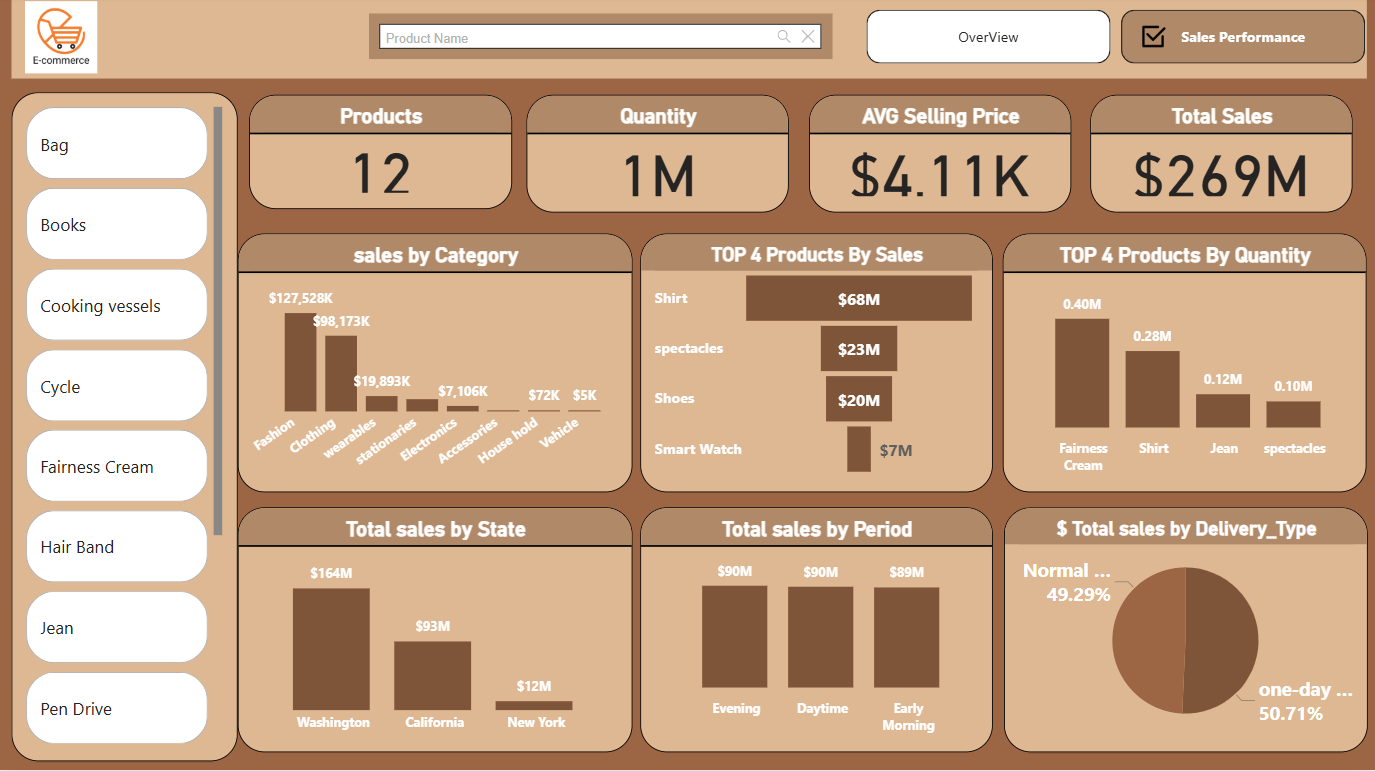

What the dashboard file says about the page in this screenshot:
{"tool":"powerbi","page":{"name":"Sales Performance","canvas":[1280,720],"ordinal":1},"visuals":[{"type":"columnChart","title":"sales by Category","fields":{"Y":["Us-Ecommerce Dataset.$ Total sales"],"Category":["Us-Ecommerce Dataset.Category"]},"box":[222.1,220.9,367.4,240.7],"z":0},{"type":"columnChart","title":"Total sales by State","fields":{"Y":["Us-Ecommerce Dataset.$ Total sales"],"Category":["Us-Ecommerce Dataset.State"]},"box":[222.1,475.6,367.4,227.9],"z":1000},{"type":"columnChart","title":"Total sales by Period","fields":{"Y":["Us-Ecommerce Dataset.$ Total sales"],"Category":["Us-Ecommerce Dataset.Period"]},"box":[596.5,475.6,327.9,227.9],"z":2000},{"type":"funnel","title":"TOP 4 Products By Sales ","fields":{"Y":["Us-Ecommerce Dataset.$ Total sales"],"Category":["Us-Ecommerce Dataset.Product"]},"box":[596.5,220.9,327.9,240.7],"z":3000},{"type":"pieChart","fields":{"Y":["Us-Ecommerce Dataset.$ Total sales"],"Category":["Us-Ecommerce Dataset.Delivery_Type"]},"box":[934.9,475.6,338.4,227.9],"z":4000},{"type":"card","title":"Total Sales","fields":{"Values":["Us-Ecommerce Dataset.$ Total sales"]},"box":[1015.1,91.9,244.2,109.3],"z":5000},{"type":"card","title":"AVG Selling Price ","fields":{"Values":["Us-Ecommerce Dataset.$ AVG Salling price"]},"box":[753.5,91.9,244.2,109.3],"z":6000},{"type":"card","title":"Products","fields":{"Values":["Us-Ecommerce Dataset.# products"]},"box":[232.3,91.6,244.5,106.1],"z":7000},{"type":"columnChart","title":"TOP 4 Products By Quantity ","fields":{"Y":["Us-Ecommerce Dataset.# Quantity"],"Category":["Us-Ecommerce Dataset.Product"]},"box":[933.7,220.9,338.4,240.7],"z":8000},{"type":"card","title":"Quantity","fields":{"Values":["Us-Ecommerce Dataset.# Quantity"]},"box":[490.7,91.9,244.2,109.3],"z":9000},{"type":"advancedSlicerVisual","fields":{"Values":["Us-Ecommerce Dataset.Product"],"Label":["Min(Us-Ecommerce Dataset.Product)"]},"box":[11.6,89.5,210.5,622.1],"z":10000},{"type":"shape","box":[11.6,0,1260.5,76.7],"z":11000},{"type":"pageNavigator","box":[807,12.8,465.1,50],"z":12000},{"type":"textSearchSlicerF85E2E78BE4A4D7D9F99ED75B5D71C85","fields":{"fields":["Us-Ecommerce Dataset.Product"]},"box":[343.9,16.7,431,42.4],"z":13000},{"type":"image","box":[19,0,78.2,77],"z":14000},{"type":"image","box":[1051.9,22.3,43.5,31.3],"z":15000}]}

Visuals, with their boxes in screenshot pixels (x1, y1, x2, y2), scaled from the page's 1280x720 canvas onto the 1375x771 screenshot:
"sales by Category" columnChart: crop(239, 237, 633, 494)
"Total sales by State" columnChart: crop(239, 509, 633, 753)
"Total sales by Period" columnChart: crop(641, 509, 993, 753)
"TOP 4 Products By Sales " funnel: crop(641, 237, 993, 494)
pieChart - Us-Ecommerce Dataset.$ Total sales x Us-Ecommerce Dataset.Delivery_Type: crop(1004, 509, 1368, 753)
"Total Sales" card: crop(1090, 98, 1353, 215)
"AVG Selling Price " card: crop(809, 98, 1072, 215)
"Products" card: crop(250, 98, 512, 212)
"TOP 4 Products By Quantity " columnChart: crop(1003, 237, 1367, 494)
"Quantity" card: crop(527, 98, 789, 215)
advancedSlicerVisual - Us-Ecommerce Dataset.Product x Min(Us-Ecommerce Dataset.Product): crop(12, 96, 239, 762)
shape: crop(12, 0, 1367, 82)
pageNavigator: crop(867, 14, 1367, 67)
textSearchSlicerF85E2E78BE4A4D7D9F99ED75B5D71C85 - Us-Ecommerce Dataset.Product: crop(369, 18, 832, 63)
image: crop(20, 0, 104, 82)
image: crop(1130, 24, 1177, 57)
